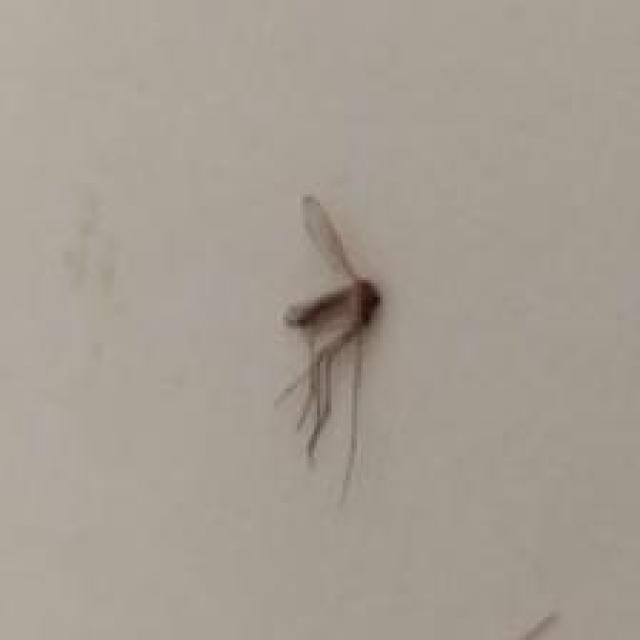Culex: (274, 191, 383, 506)
